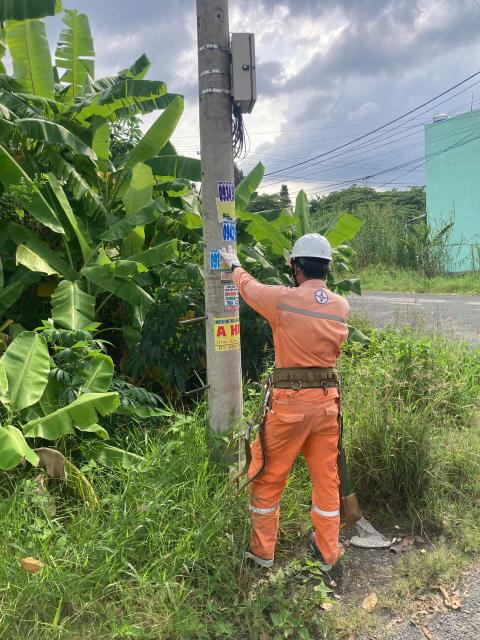gloves: (215, 242, 247, 273)
harness: (249, 360, 351, 394)
helmet: (285, 224, 345, 273)
shoes: (305, 526, 340, 573), (239, 542, 284, 571)
